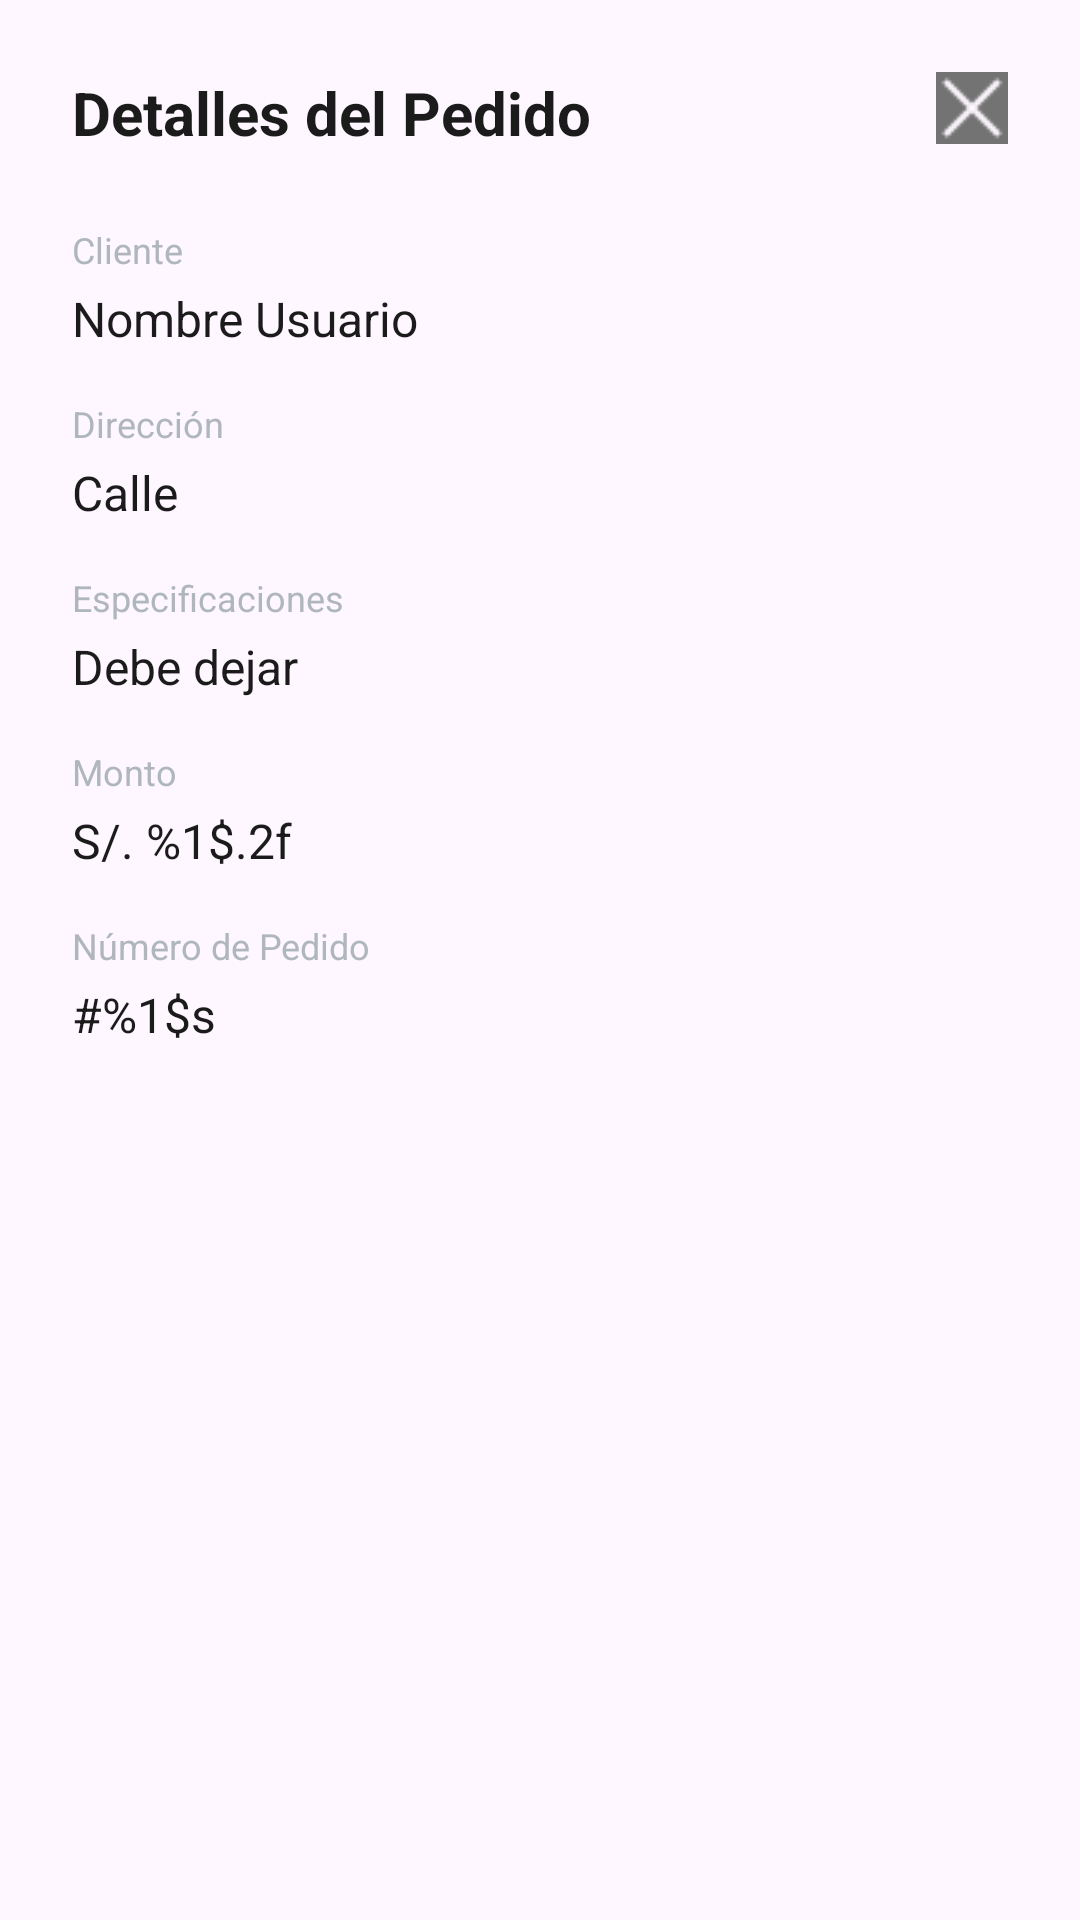

Where icons sit on this 1080*1920 app screen, as (x1, y1, x2, y2):
Cerrar: (936, 72, 1008, 144)
